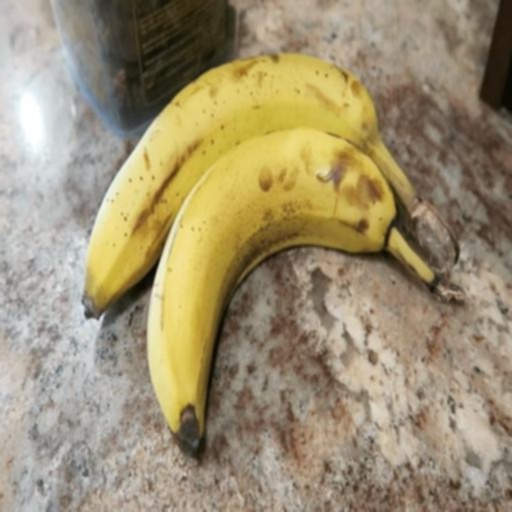fruit: (344, 101, 446, 347), (415, 133, 485, 405), (434, 149, 491, 444)
